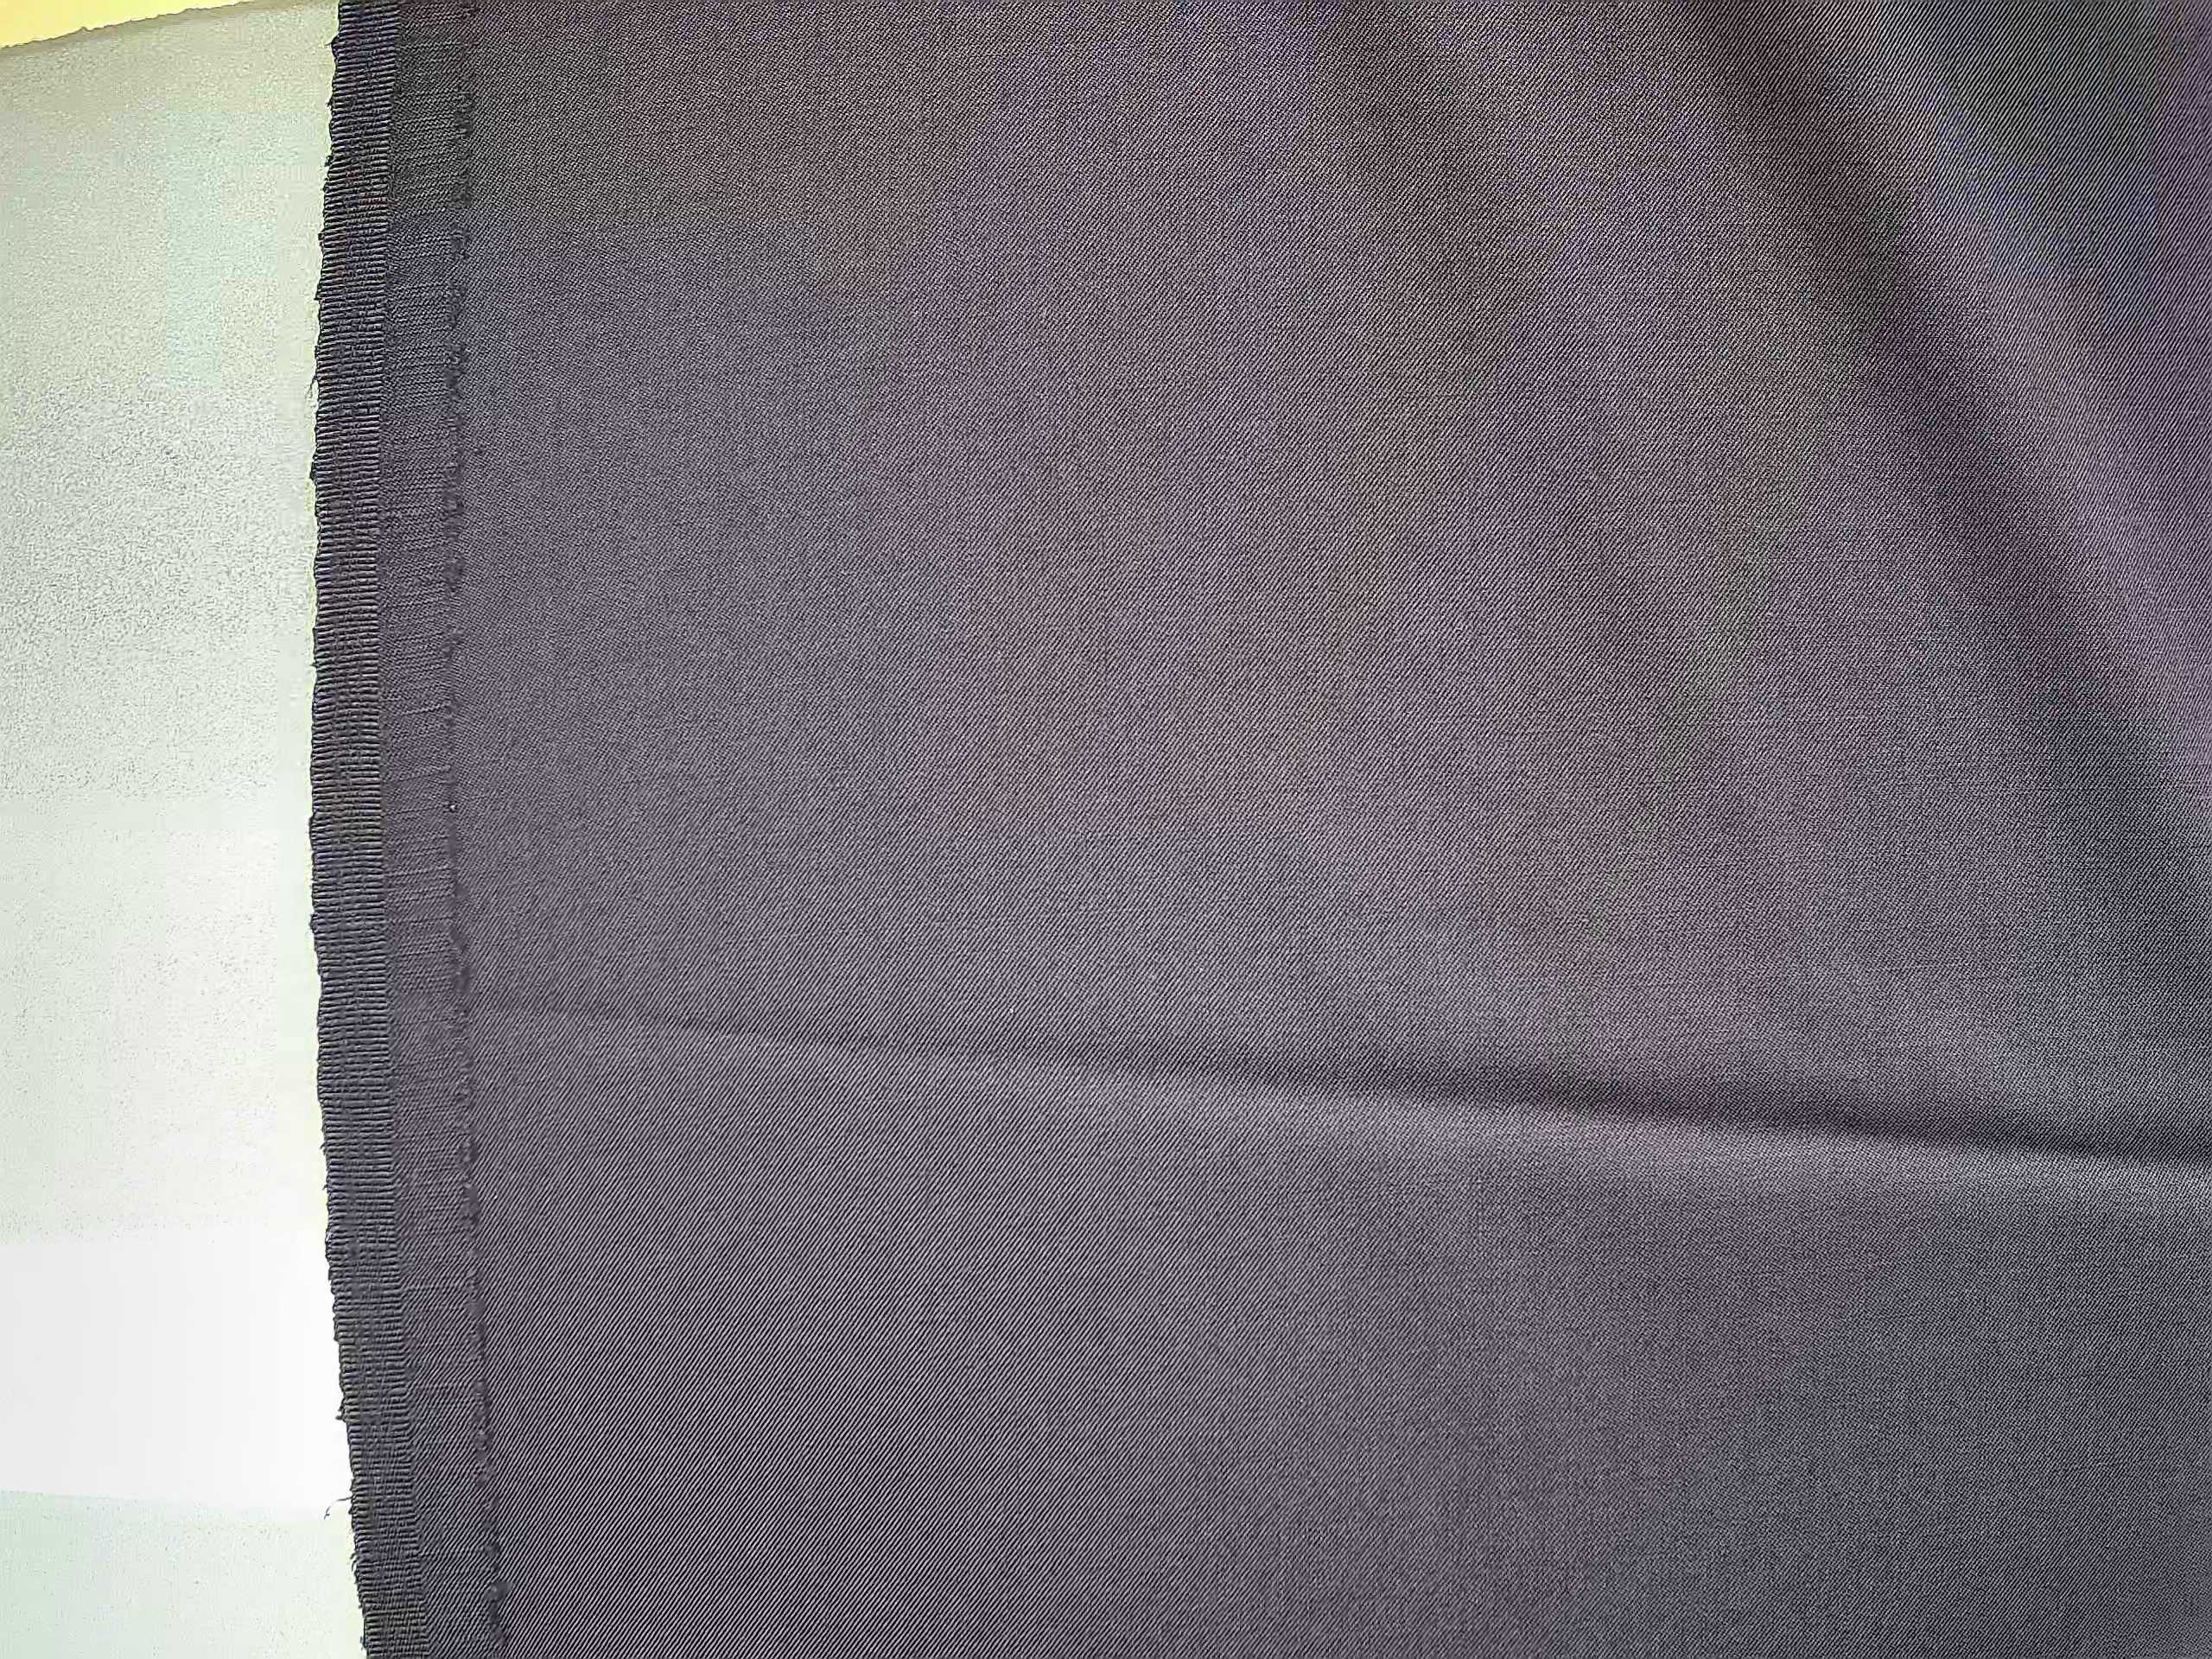others: (434, 16, 529, 1642)
